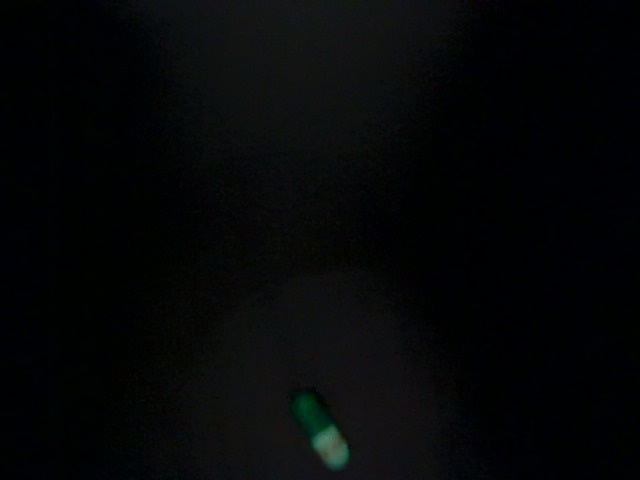YHLJ: (112, 275, 384, 366)
